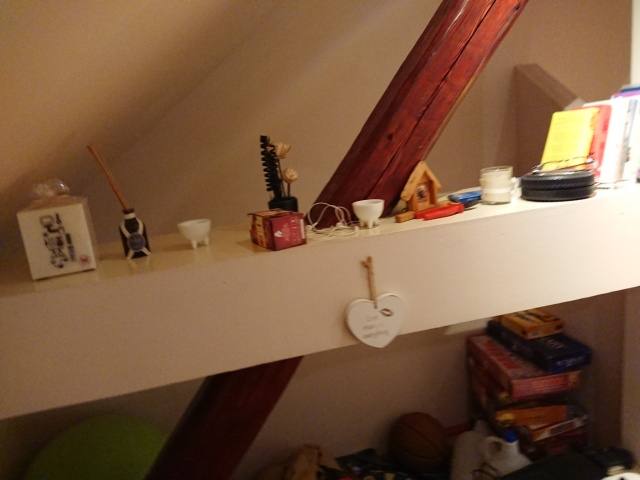Franck Apple Cinnamon Tea 60g: (244, 204, 309, 253)
